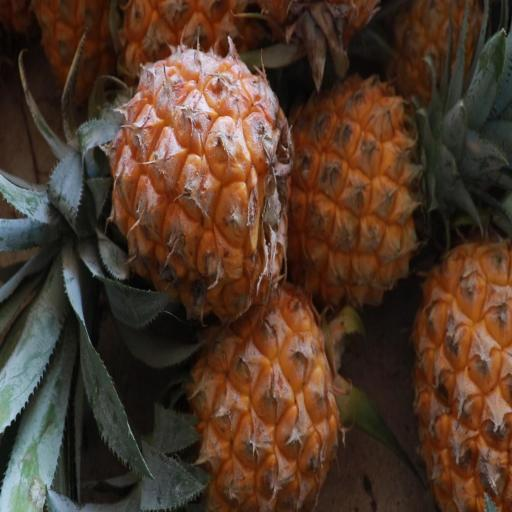Pineapple - v8 v1: (46, 40, 300, 334), (283, 66, 462, 322), (166, 287, 343, 512), (409, 230, 512, 512)
